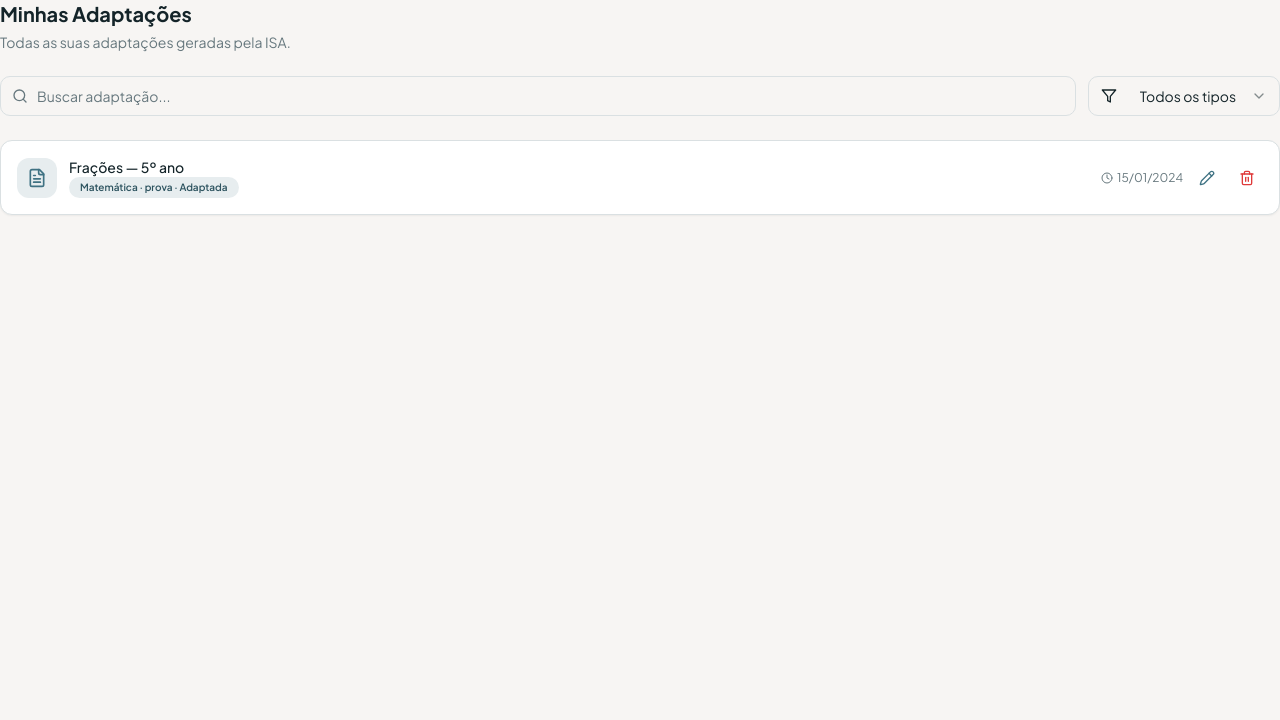
Scenario: MyAdaptations Page › opens view dialog on card click
What coordinates should you click on to do the following:
click the text "Frações — 5º ano"
I would click on:
 (127, 167)
Its box is [69,158,184,176].
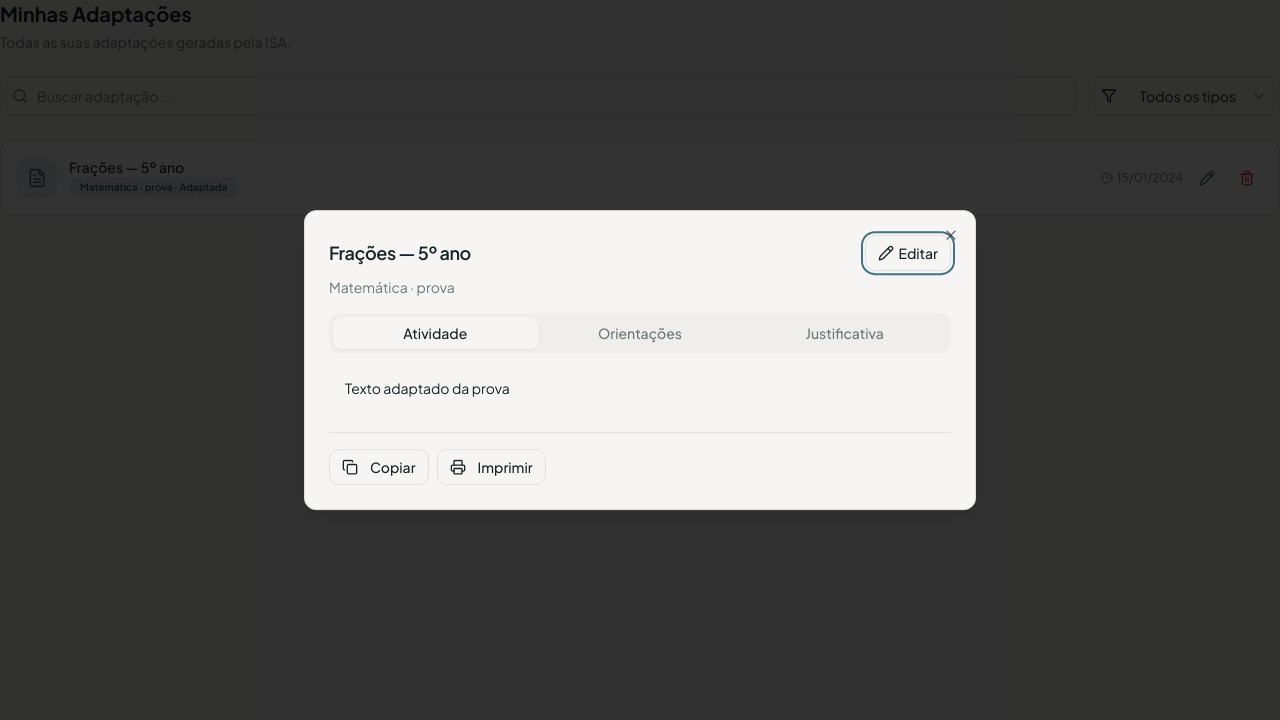
Now the tab "Atividade" is shown, box [333,317,538,349]
Now the tab "Orientações" is shown, box [538,317,742,349]
Now the tab "Justificativa" is shown, box [742,317,947,349]
